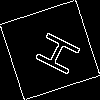H: (25, 25, 82, 78)
